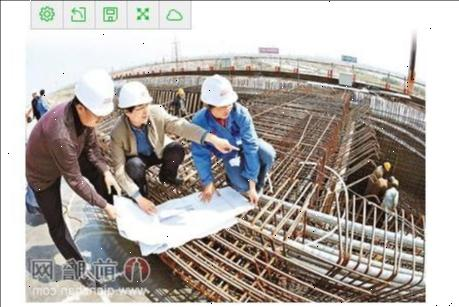helmet: (73, 69, 114, 117), (116, 79, 152, 113)
no_wear: (31, 126, 94, 180), (113, 114, 170, 158), (201, 76, 238, 106)
wear: (192, 112, 251, 162)
